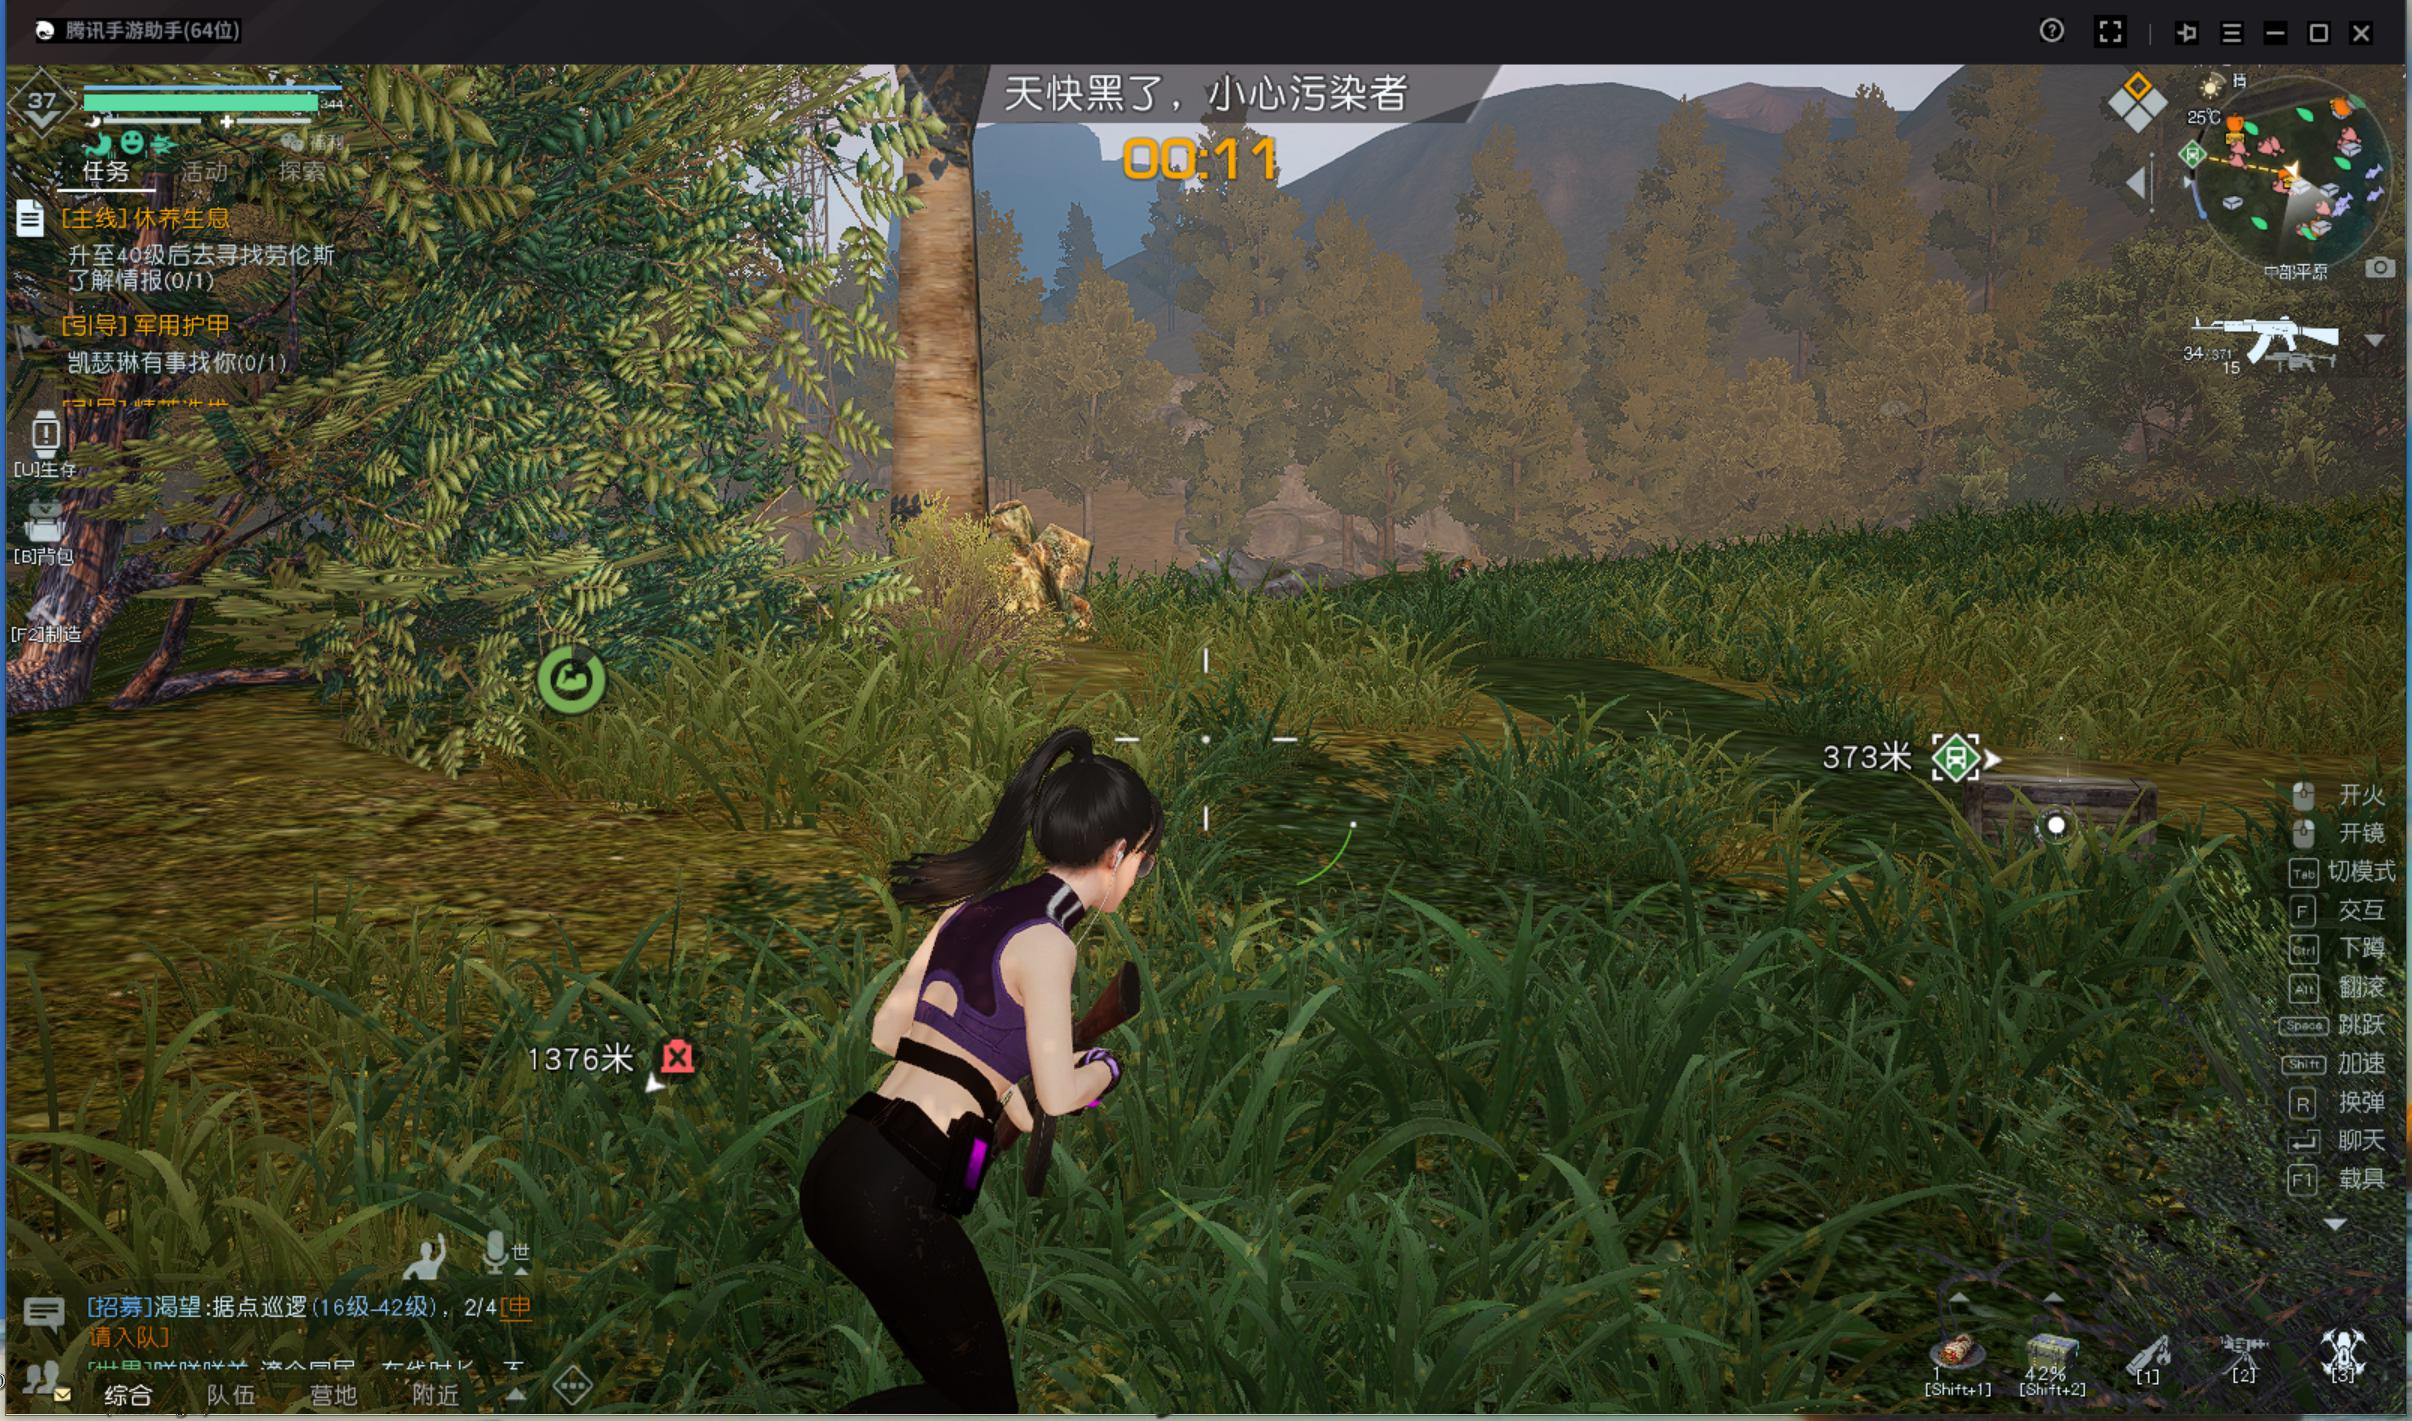stone: (993, 501, 1105, 639)
tree: (874, 200, 1006, 692)
